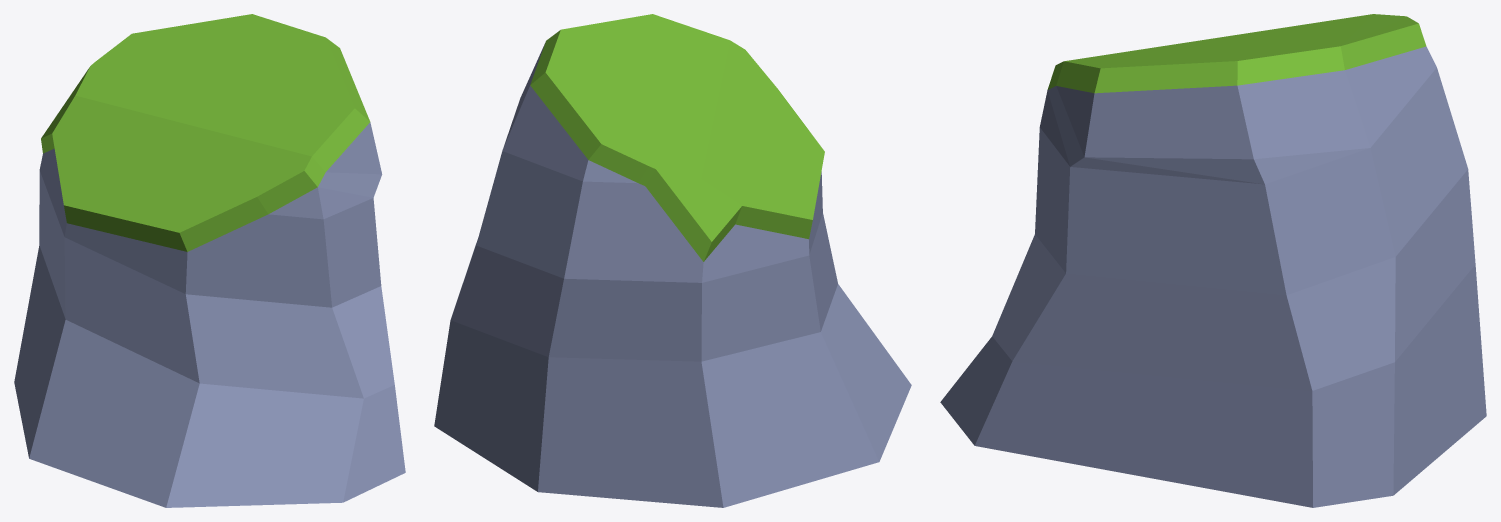
Rendered from Rock_32_1.fbx.
The picture shows the model from 3 angles, left to right: view 1: azimuth 30°, elevation 25°; view 2: azimuth 150°, elevation 25°; view 3: azimuth 270°, elevation 25°; orthographic projection. The views are drawn at different scales.
Parts seen in each view (by area): view 1: Rock_32_1; view 2: Rock_32_1; view 3: Rock_32_1.
Part boxes in pixels (x1,y1,x2,y2): Rock_32_1: (14,14,405,507); Rock_32_1: (434,14,911,507); Rock_32_1: (940,14,1486,507).
Bounding box in the file's own units: 4.1 × 3.59 × 4.4.
